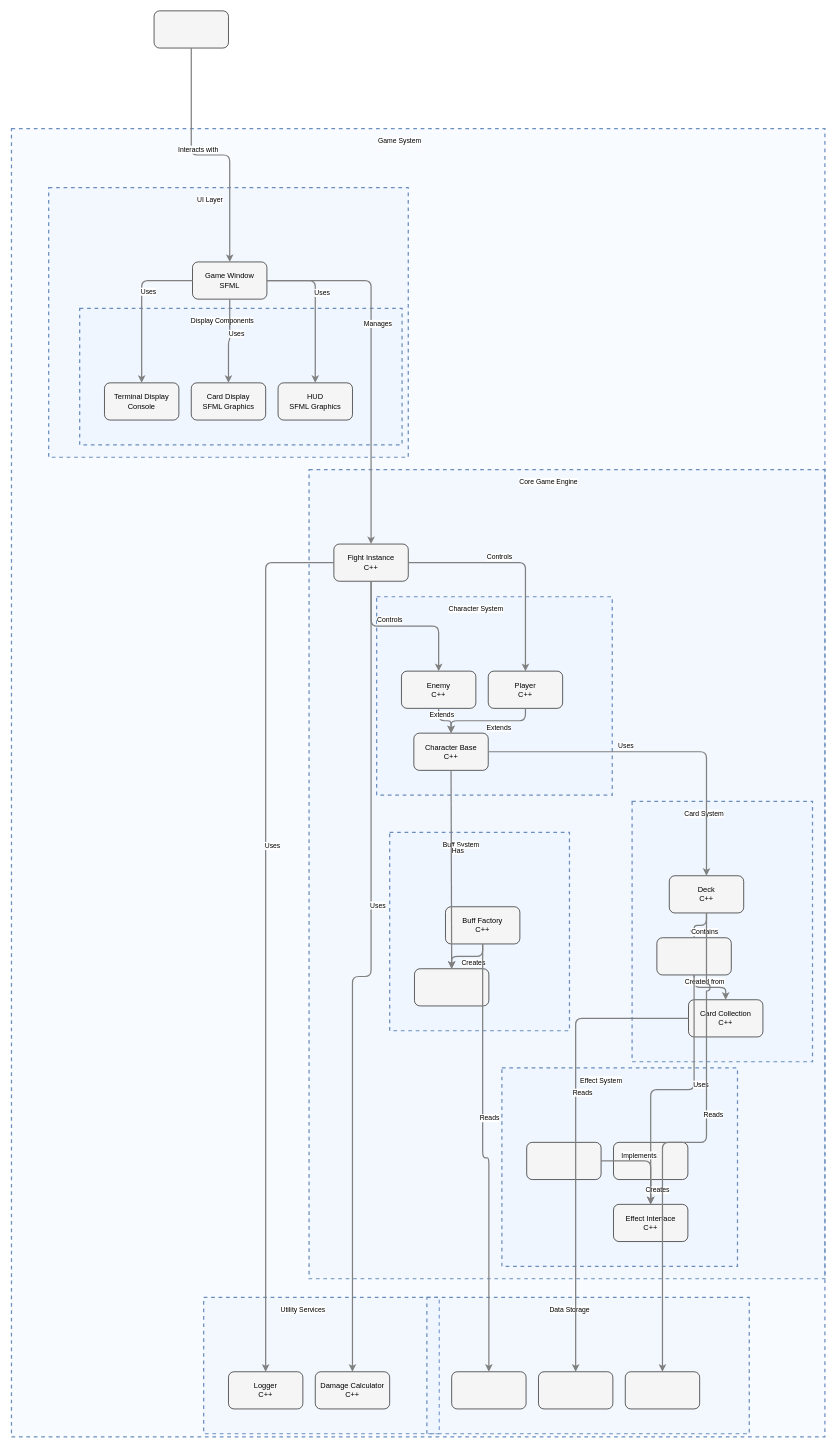
This 836x1448 diagram has some shape labels left out. The shapes that lost their labels are listed below. From the top down, each one's centre as x and y in pixels, then its label:
At point (190, 29): "Player".
At point (693, 956): "Card C++".
At point (451, 987): "Buff C++".
At point (563, 1161): "Concrete Effects C++".
At point (650, 1161): "Effect Factory C++".
At point (488, 1390): "Buffs Config JSON".
At point (575, 1390): "Cards Config JSON".
At point (662, 1390): "Base Decks Config JSON".
